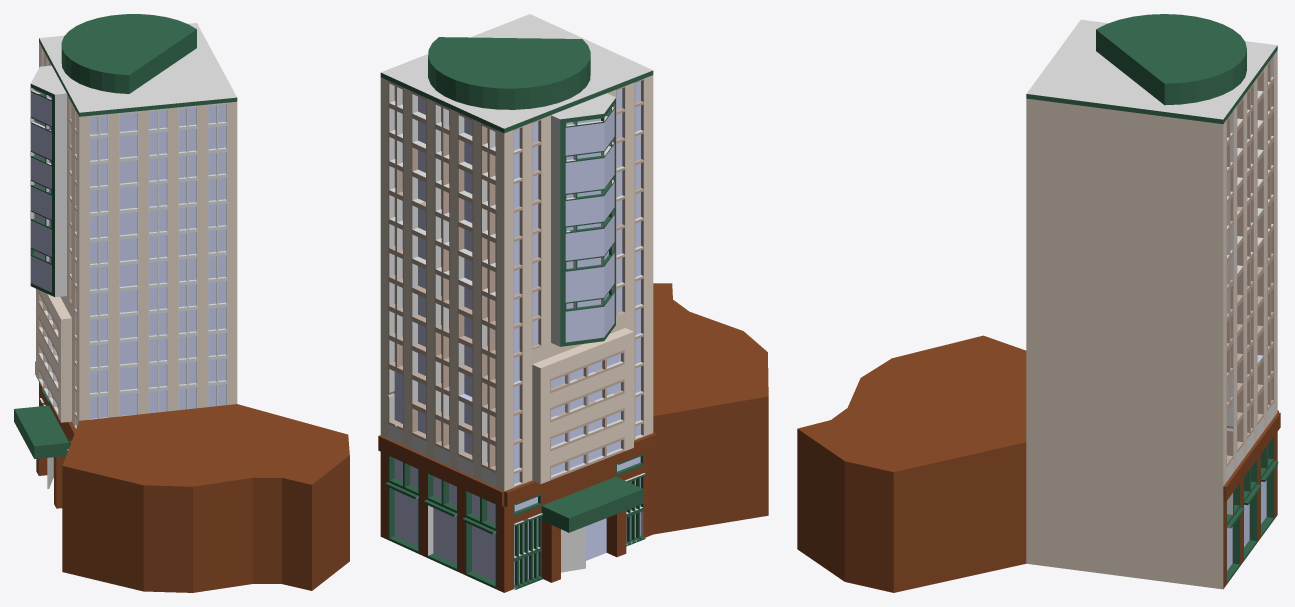
The model's file is BonGwan include Door.fbx.
3 views of the same model, side by side, from view 1: azimuth 30°, elevation 25°; view 2: azimuth 150°, elevation 25°; view 3: azimuth 270°, elevation 25° (orthographic). The views are drawn at different scales.
Visible parts, largest first — view 1: Main, Loop; view 2: Main, Loop, Door; view 3: Main, Loop.
Part boxes in pixels (bbox=[...]): Main: bbox=[14, 23, 349, 592]; Loop: bbox=[61, 14, 196, 93]; Main: bbox=[378, 14, 768, 592]; Loop: bbox=[428, 37, 590, 109]; Door: bbox=[561, 526, 585, 572]; Main: bbox=[797, 19, 1280, 592]; Loop: bbox=[1096, 14, 1246, 105].
Size of the model in its own units: 4866 by 8159 by 7271.
